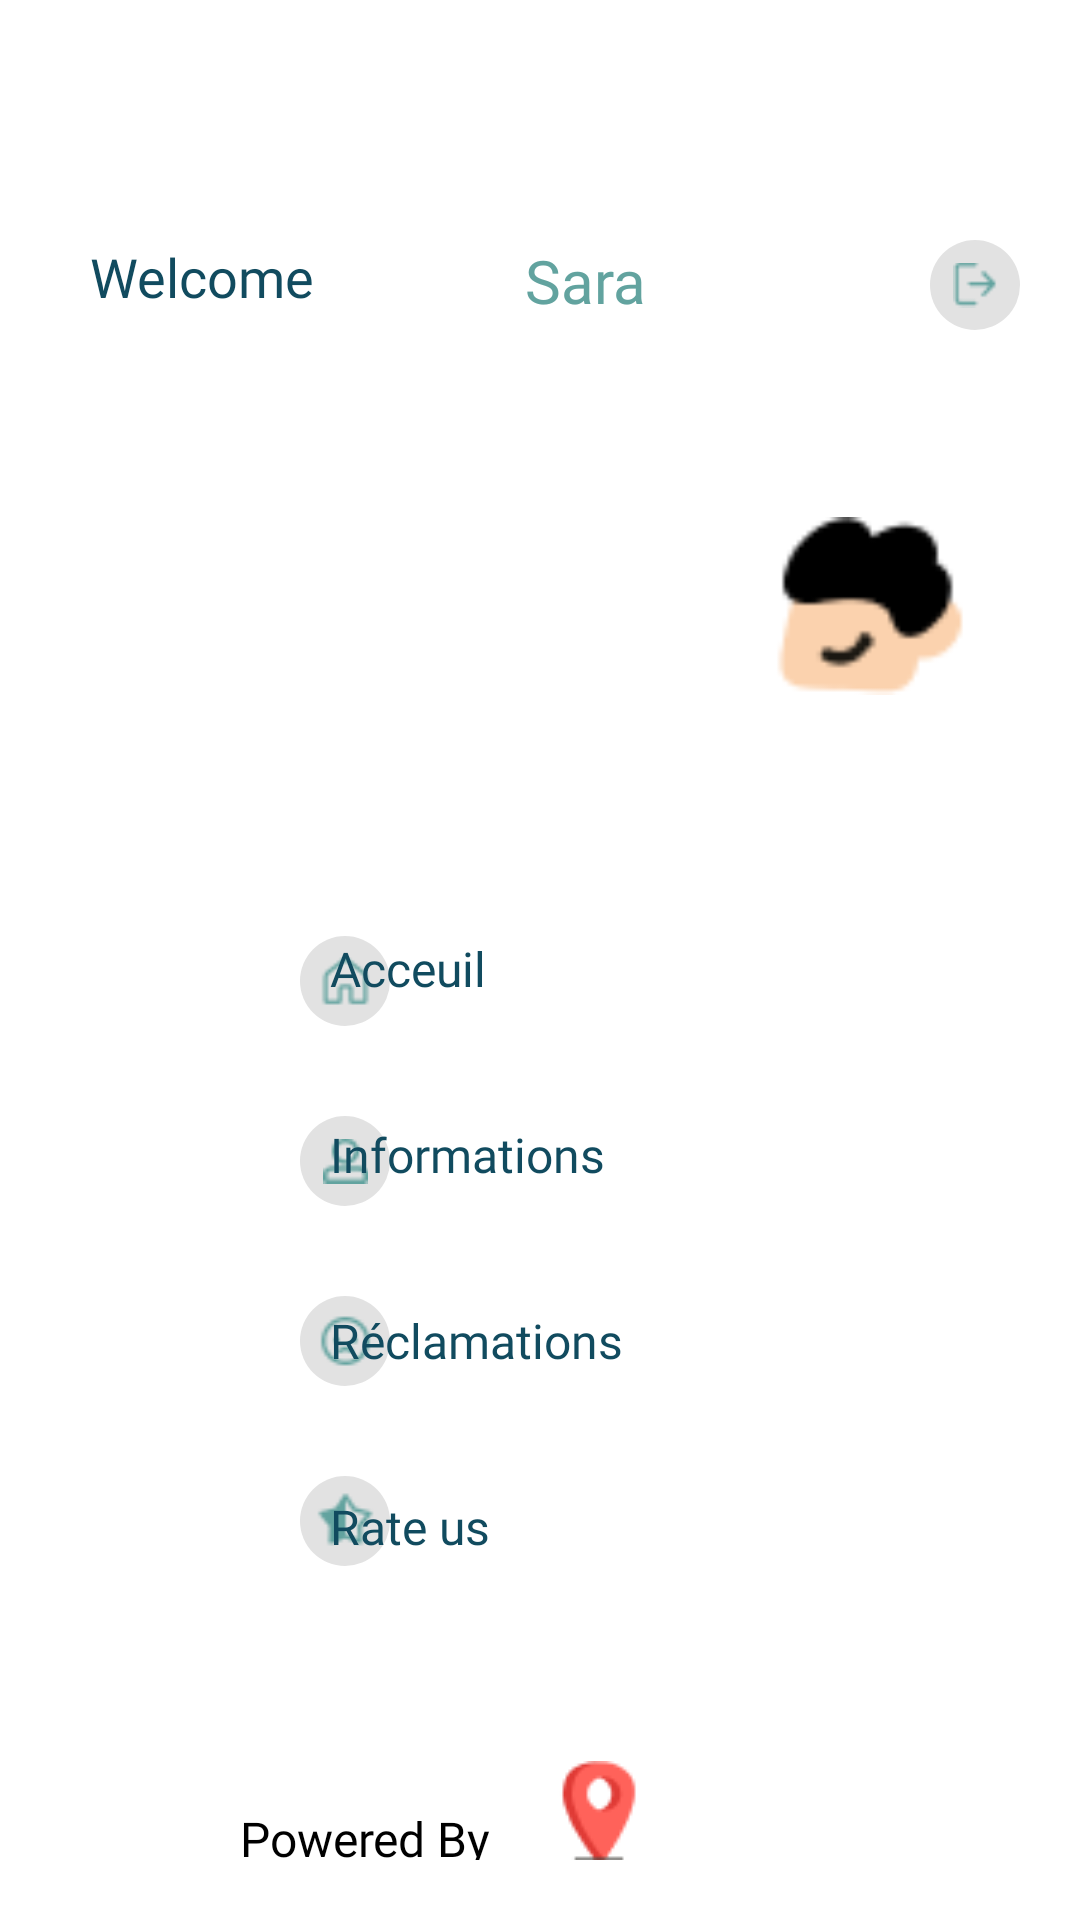

Icon bounding boxes for this 1080*1920 phone screenshot, format (x1, y1, x2, y2):
local: (562, 1761, 636, 1860)
